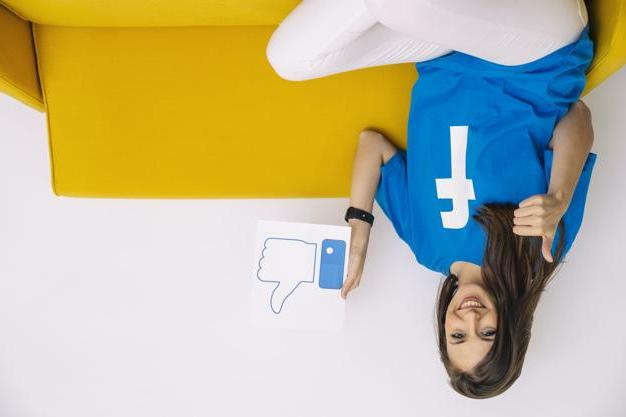thumbsdown: (512, 195, 554, 263)
